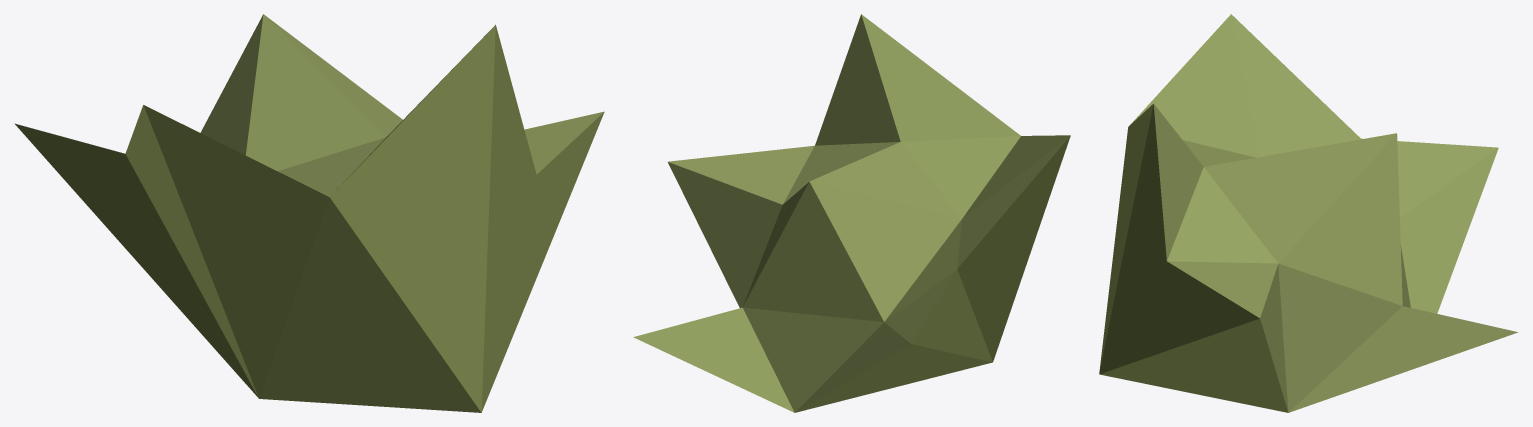
File: BushWinter1_Alt3.fbx
The picture shows the model from 3 angles, left to right: view 1: azimuth 30°, elevation 25°; view 2: azimuth 150°, elevation 25°; view 3: azimuth 270°, elevation 25°; orthographic projection. The views are drawn at different scales.
Visible parts, largest first — view 1: BushWinter1_Alt3; view 2: BushWinter1_Alt3; view 3: BushWinter1_Alt3.
Boxes of the visible parts, x1,y1,x2,y2 form: BushWinter1_Alt3: (15, 14, 604, 412); BushWinter1_Alt3: (633, 14, 1070, 412); BushWinter1_Alt3: (1099, 14, 1518, 412).
Size of the model in its own units: 0.6828 by 0.4811 by 0.6299.
